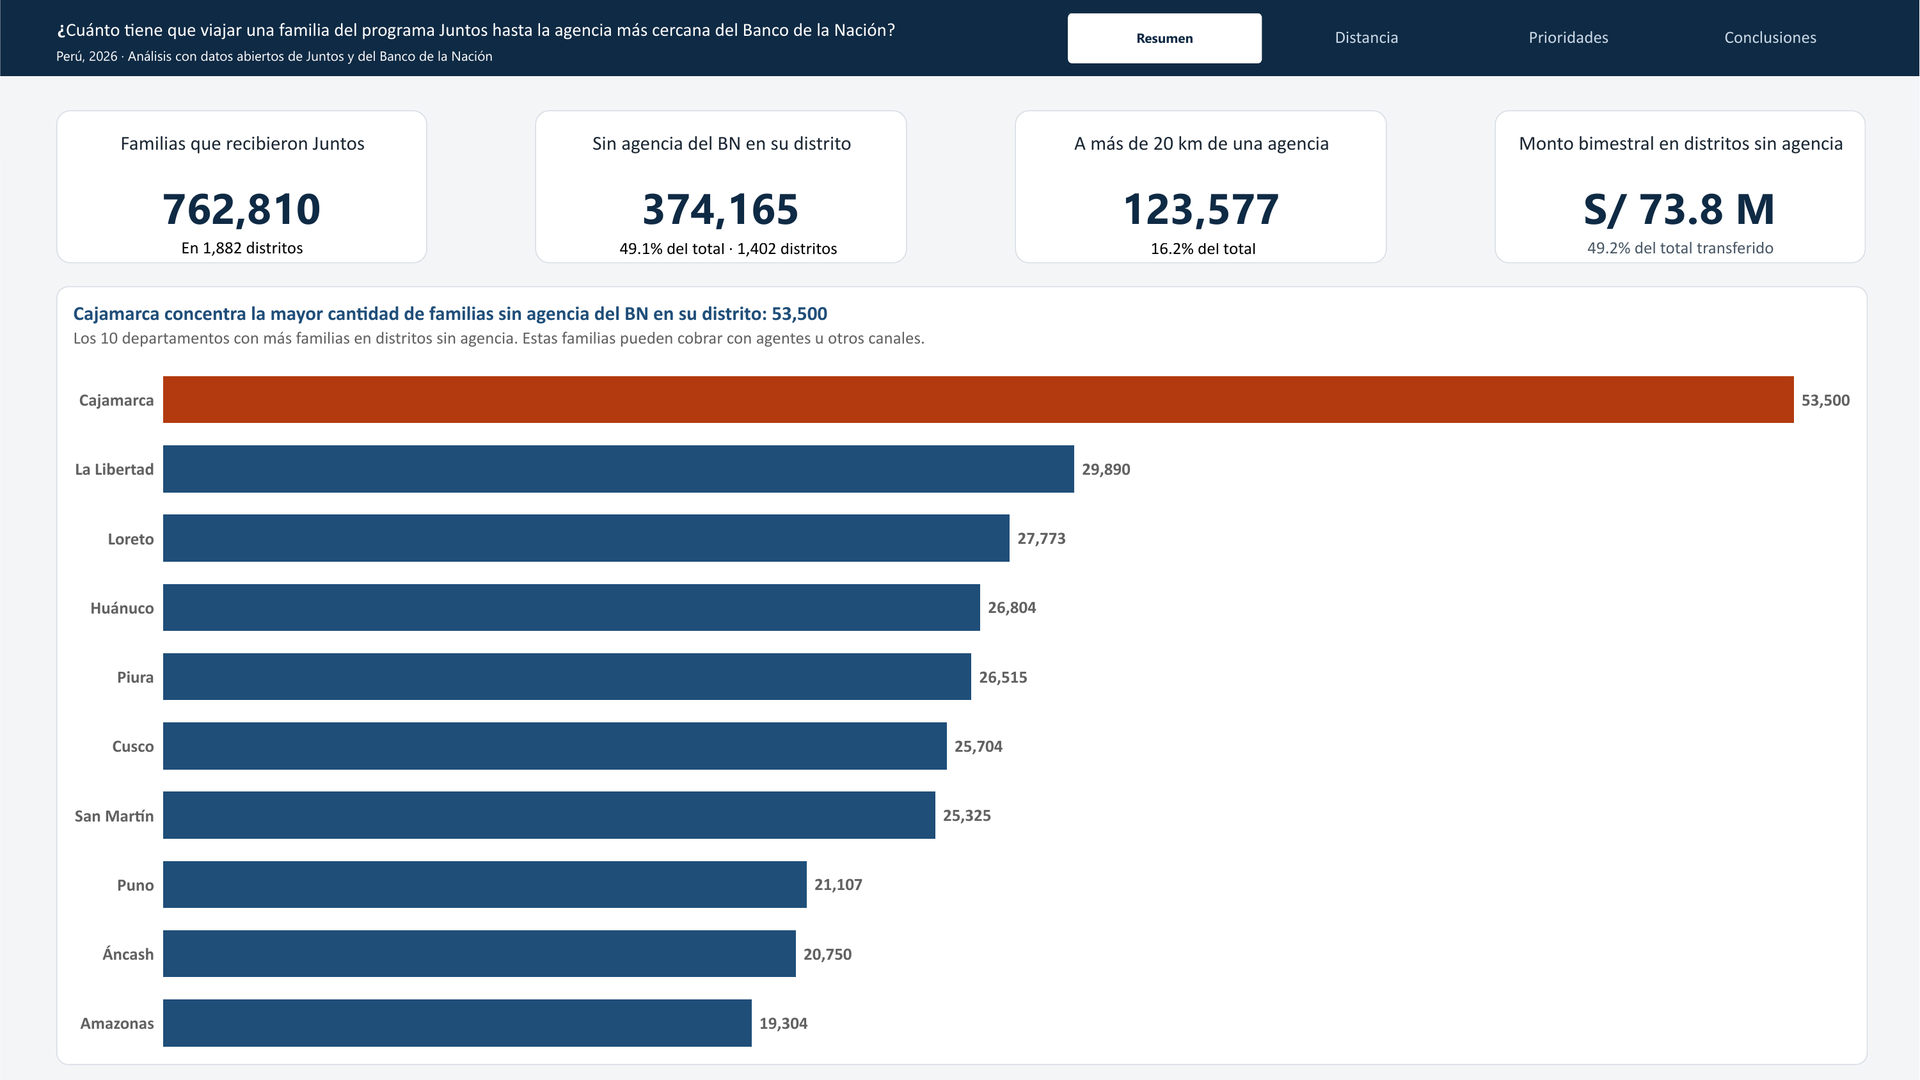

The dashboard page shown, as its layout file describes it:
{"tool":"powerbi","page":{"name":"Resumen","canvas":[1920,1080],"ordinal":0},"visuals":[{"type":"card","title":"Familias que recibieron Juntos","fields":{"Values":["resultado_distrito.Familias"]},"box":[55.7,110,371.4,152.9],"z":0},{"type":"card","title":"Sin agencia del BN en su distrito","fields":{"Values":["resultado_distrito.Familias sin agencia"]},"box":[535.5,110,371.4,152.9],"z":1000},{"type":"card","title":"A más de 20 km de una agencia","fields":{"Values":["resultado_distrito.Familias a mas de 20 km"]},"box":[1015.2,110,371.4,152.9],"z":2000},{"type":"card","title":"Monto bimestral en distritos sin agencia","fields":{"Values":["evaluacion_aperturas.Monto sin agencia (M)"]},"box":[1495,110,371.4,152.9],"z":3000},{"type":"card","fields":{"Values":["evaluacion_aperturas.Sub 1"]},"box":[71.7,225,340,49.2],"z":4000},{"type":"card","fields":{"Values":["evaluacion_aperturas.Sub 2"]},"box":[557.5,225,341.1,43.3],"z":5000},{"type":"card","fields":{"Values":["evaluacion_aperturas.Sub 3"]},"box":[1033.3,225,340.5,43],"z":6000},{"type":"card","fields":{"Values":["evaluacion_aperturas.Sub 4"]},"box":[1510.8,225,340,43.6],"z":7000},{"type":"clusteredBarChart","title":"Cajamarca concentra la mayor cantidad de familias sin agencia del BN en su distrito: 53,500","fields":{"Category":["resultado_distrito.Departamento2"],"Y":["resultado_distrito.Familias sin agencia"]},"box":[56.2,286.2,1811.2,778.8],"z":8000},{"type":"shape","box":[0,0,1920,75.6],"z":9000},{"type":"textbox","box":[56.6,17.5,851.1,29.6],"z":10000},{"type":"textbox","box":[56.2,46.9,501.4,28.6],"z":11000},{"type":"pageNavigator","box":[1067.5,12.5,800,50],"z":12000}]}

Visuals, with their boxes in screenshot pixels (x1, y1, x2, y2), scaled from the page's 1920x1080 canvas onto the 1920x1080 screenshot:
"Familias que recibieron Juntos" card: [56, 110, 427, 263]
"Sin agencia del BN en su distrito" card: [536, 110, 907, 263]
"A más de 20 km de una agencia" card: [1015, 110, 1387, 263]
"Monto bimestral en distritos sin agencia" card: [1495, 110, 1866, 263]
card - evaluacion_aperturas.Sub 1: [72, 225, 412, 274]
card - evaluacion_aperturas.Sub 2: [558, 225, 899, 268]
card - evaluacion_aperturas.Sub 3: [1033, 225, 1374, 268]
card - evaluacion_aperturas.Sub 4: [1511, 225, 1851, 269]
"Cajamarca concentra la mayor cantidad de familias sin agencia del BN en su distrito: 53,500" clusteredBarChart: [56, 286, 1867, 1065]
shape: [0, 0, 1919, 76]
textbox: [57, 18, 908, 47]
textbox: [56, 47, 558, 76]
pageNavigator: [1068, 12, 1868, 62]
